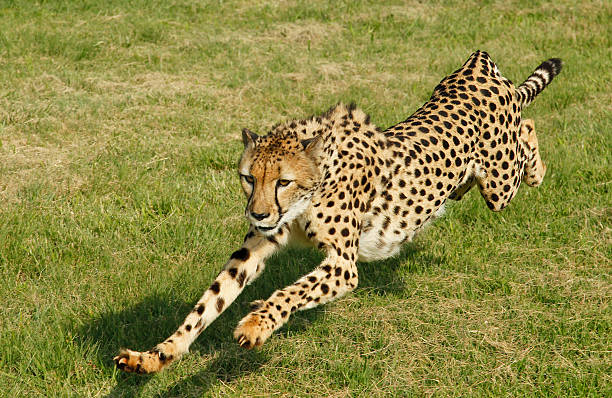cheetah: (210, 119, 347, 248)
